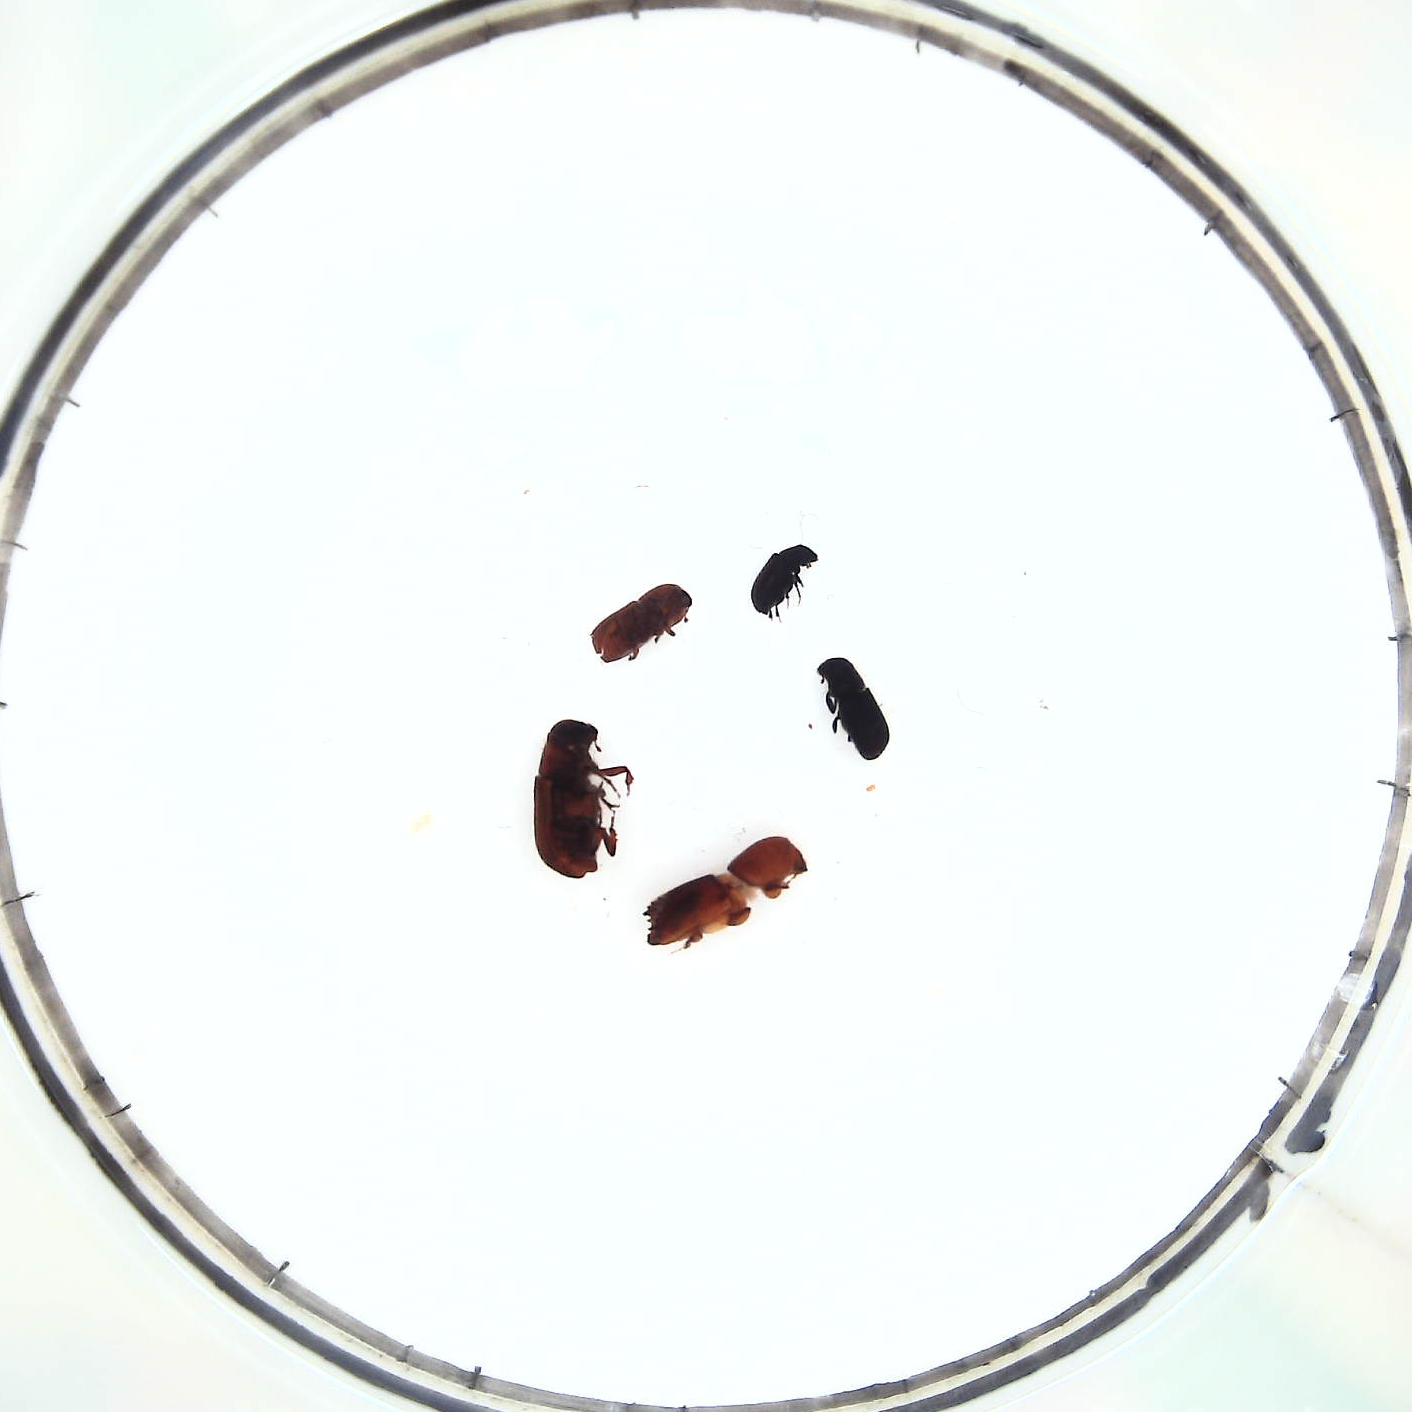Boerner: (645, 837, 809, 950)
Leconte: (533, 716, 625, 883)
armandi: (588, 578, 694, 662), (813, 656, 893, 762)
coleoptera: (751, 544, 818, 615)
